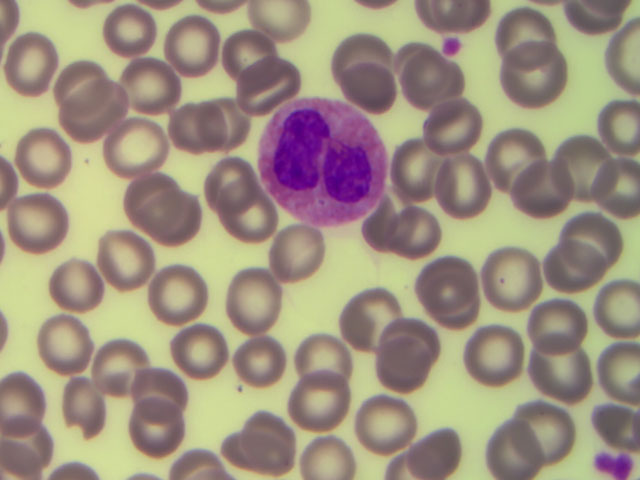Platelets: (587, 447, 634, 480), (437, 36, 468, 60)
RBC: (297, 420, 360, 480), (487, 420, 550, 480), (404, 420, 467, 480), (4, 33, 67, 92), (44, 53, 107, 112), (59, 85, 122, 144), (122, 55, 185, 114), (94, 2, 157, 61), (162, 18, 225, 77), (214, 22, 277, 81), (232, 49, 295, 108), (205, 86, 268, 145), (155, 102, 218, 161), (98, 115, 161, 174), (111, 159, 174, 218), (143, 192, 206, 251), (193, 153, 256, 212), (218, 196, 281, 255), (265, 220, 328, 279), (215, 270, 278, 329), (152, 263, 215, 322), (96, 233, 159, 292), (51, 254, 114, 313), (8, 191, 71, 250), (18, 125, 81, 184), (35, 311, 98, 370), (87, 325, 150, 384), (57, 375, 120, 434), (128, 359, 191, 418), (117, 396, 180, 455), (165, 324, 228, 383), (229, 333, 292, 392), (289, 321, 352, 380), (285, 367, 348, 426), (237, 415, 300, 474), (352, 389, 415, 448), (376, 342, 439, 401), (381, 306, 444, 365), (333, 281, 396, 340), (417, 251, 480, 310), (424, 287, 487, 346), (474, 249, 537, 308), (552, 241, 615, 300), (558, 210, 621, 269), (507, 156, 570, 215), (539, 138, 602, 197), (482, 125, 545, 184), (442, 155, 505, 214), (386, 138, 449, 197), (421, 97, 484, 156), (398, 61, 461, 120), (333, 54, 396, 113), (324, 29, 387, 88), (507, 41, 570, 100), (487, 1, 550, 60), (577, 95, 640, 154), (577, 284, 640, 343), (526, 294, 589, 353), (532, 337, 595, 396), (462, 327, 525, 386), (526, 390, 589, 449), (1, 374, 63, 433)
WBC: (259, 103, 385, 221)
